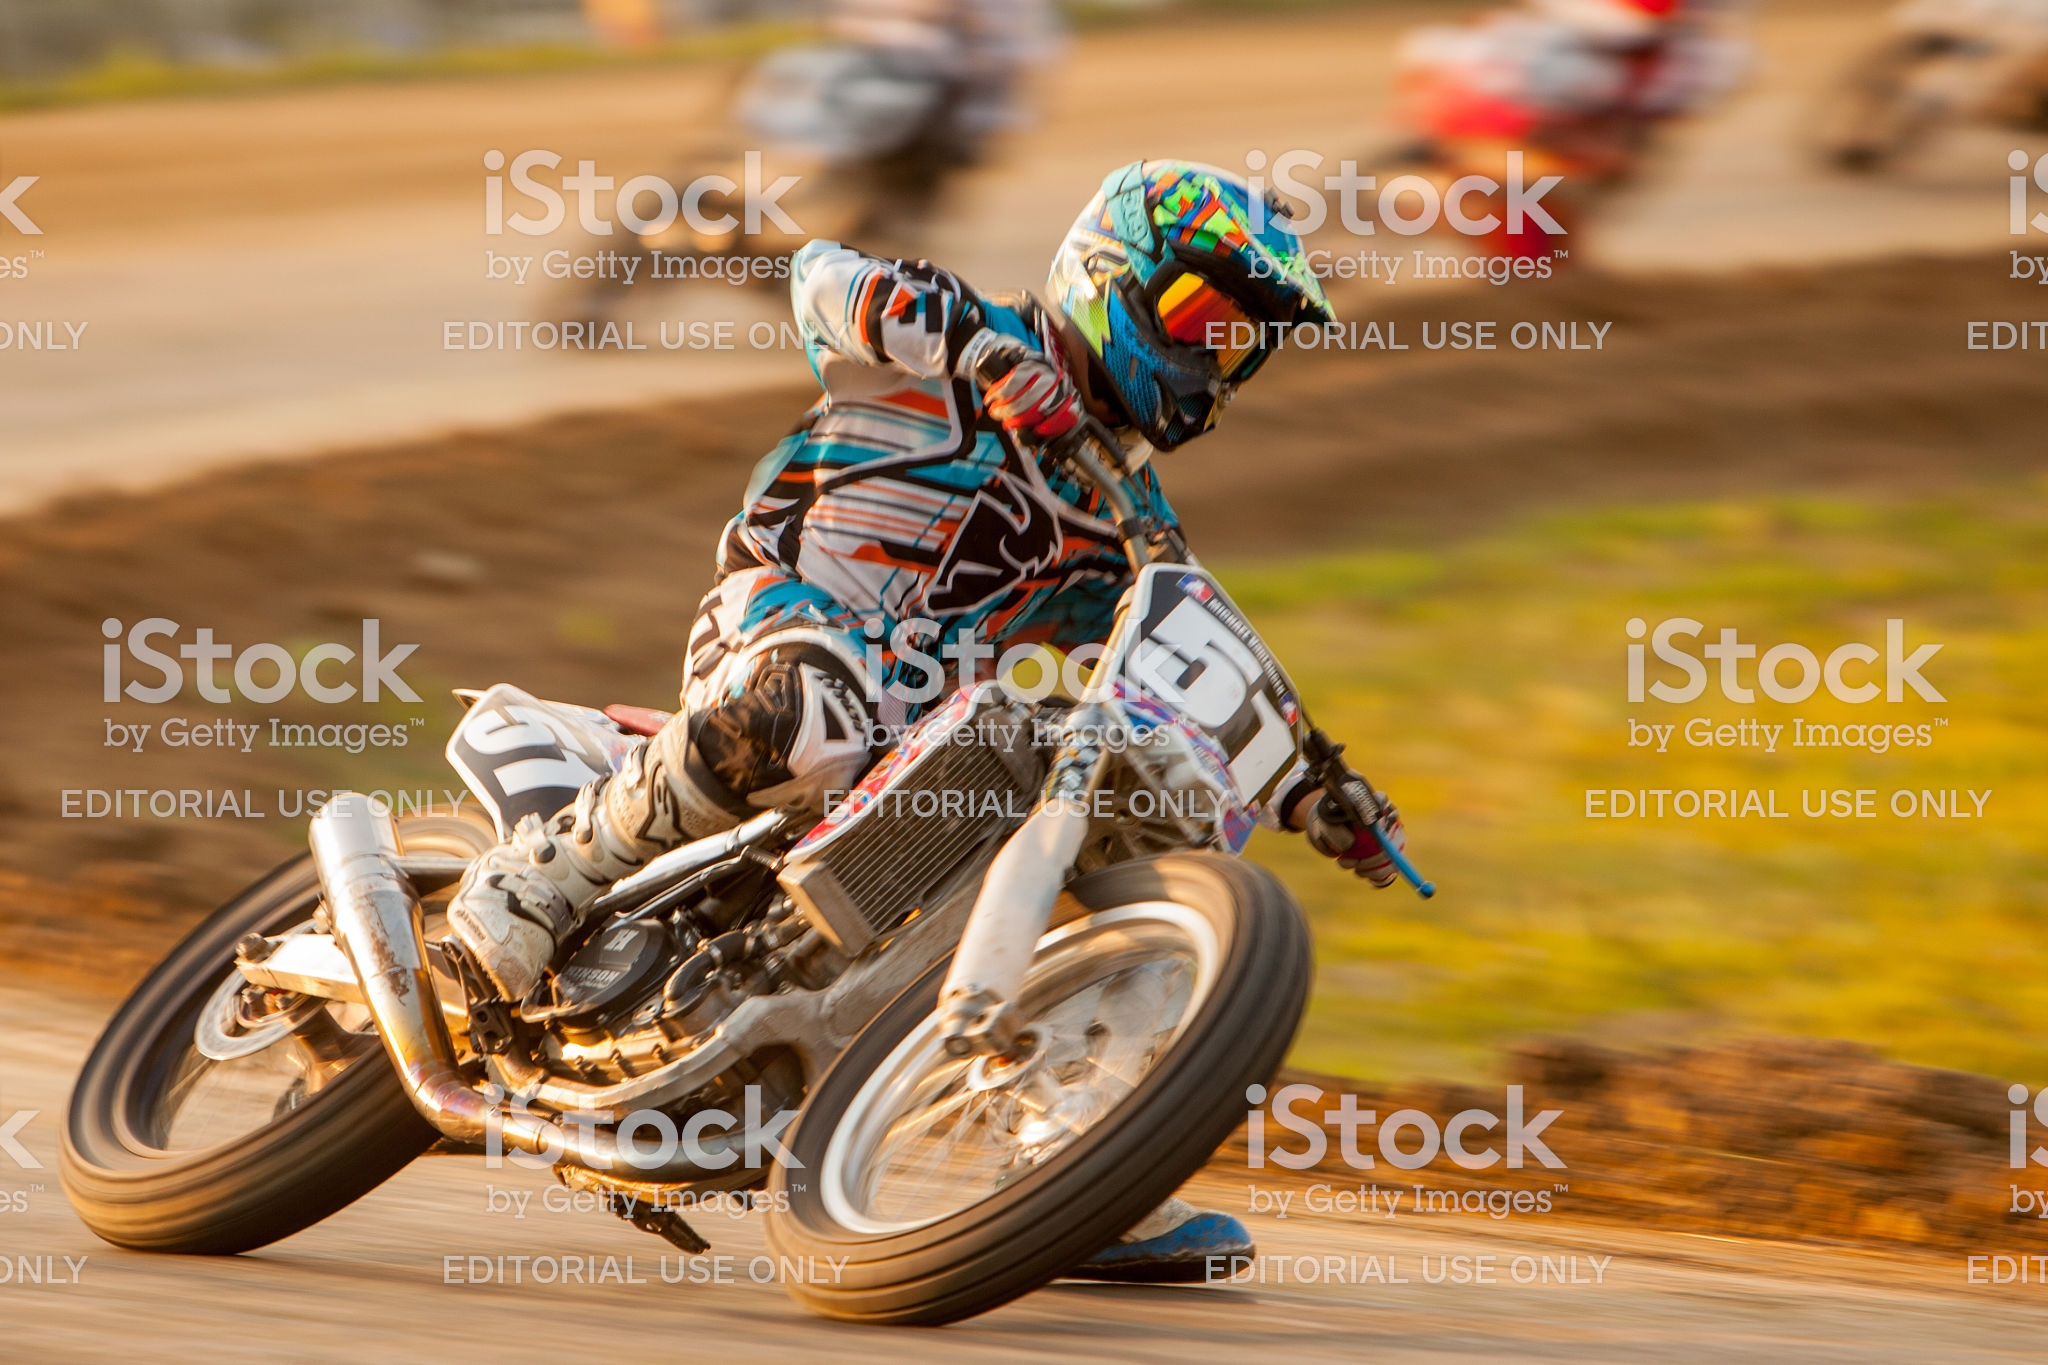helmet: (1051, 165, 1335, 411)
